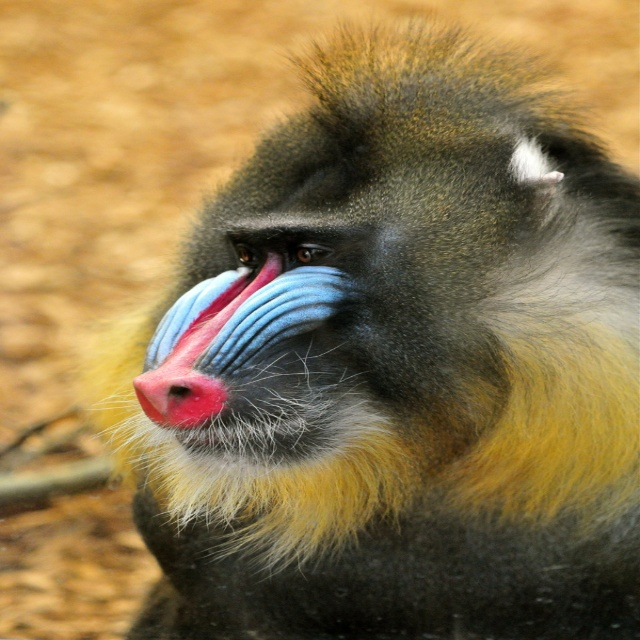Monkey: (111, 36, 640, 640)
